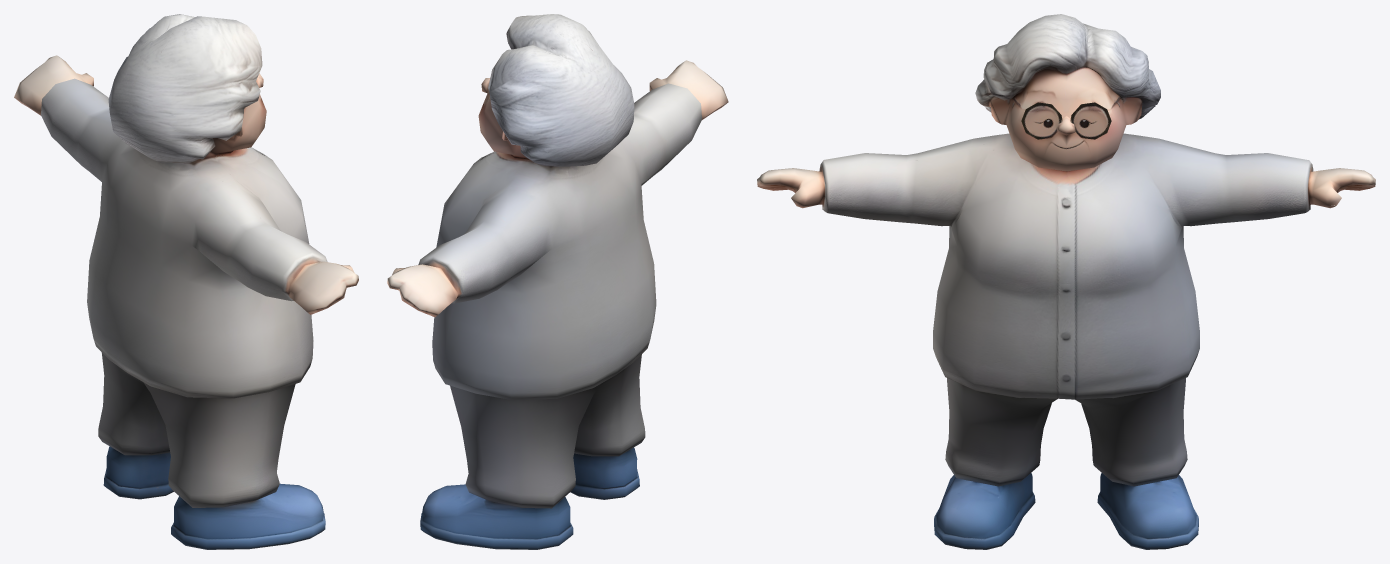
The picture shows the model from 3 angles, left to right: view 1: azimuth 30°, elevation 25°; view 2: azimuth 150°, elevation 25°; view 3: azimuth 270°, elevation 25°; orthographic projection. The views are drawn at different scales.
Visible parts, largest first — view 1: tripo_node_9dc89776-c23b-435a-8b97-53dbc146b913; view 2: tripo_node_9dc89776-c23b-435a-8b97-53dbc146b913; view 3: tripo_node_9dc89776-c23b-435a-8b97-53dbc146b913.
Part boxes in pixels (x1,y1,x2,y2): tripo_node_9dc89776-c23b-435a-8b97-53dbc146b913: (14, 14, 358, 549); tripo_node_9dc89776-c23b-435a-8b97-53dbc146b913: (387, 14, 728, 549); tripo_node_9dc89776-c23b-435a-8b97-53dbc146b913: (757, 14, 1375, 549).
Size of the model in its own units: 0.3335 by 0.8794 by 0.9995.
Materials: 1 (1 with a texture image).
